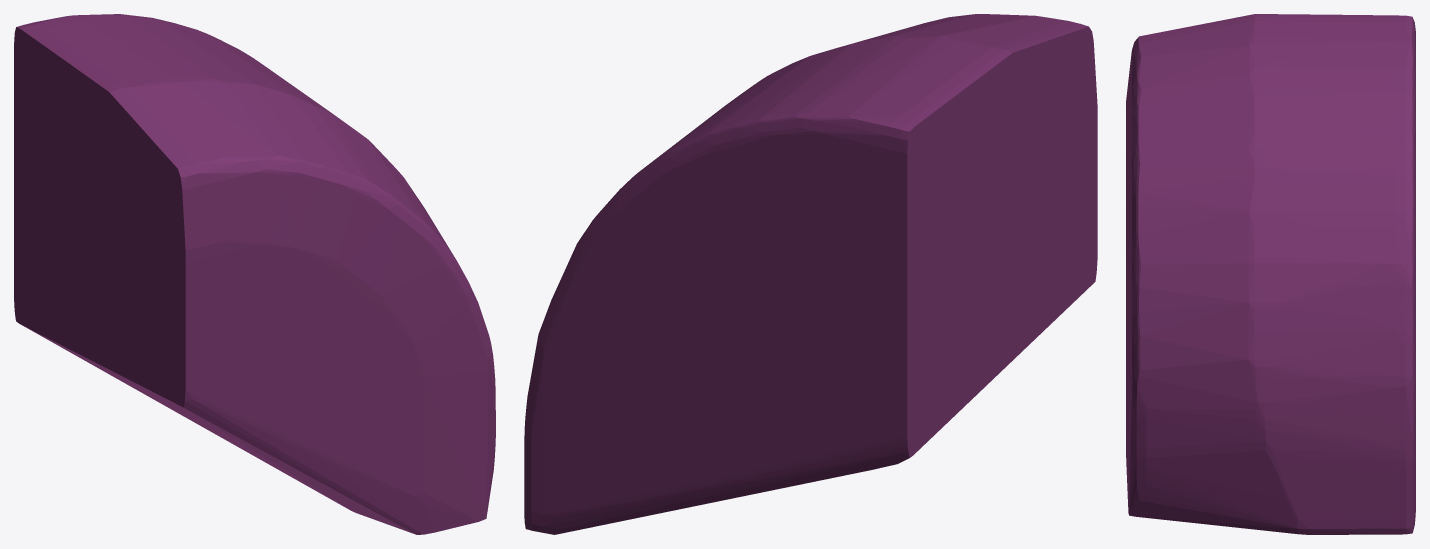
Rendered from left-shoulder-pitch-0_part_28.obj.
3 renders of one model, left to right at view 1: azimuth 30°, elevation 25°; view 2: azimuth 150°, elevation 25°; view 3: azimuth 270°, elevation 25°, orthographic. The views are drawn at different scales.
Size of the model in its own units: 0.0427 by 0.0523 by 0.0362.
